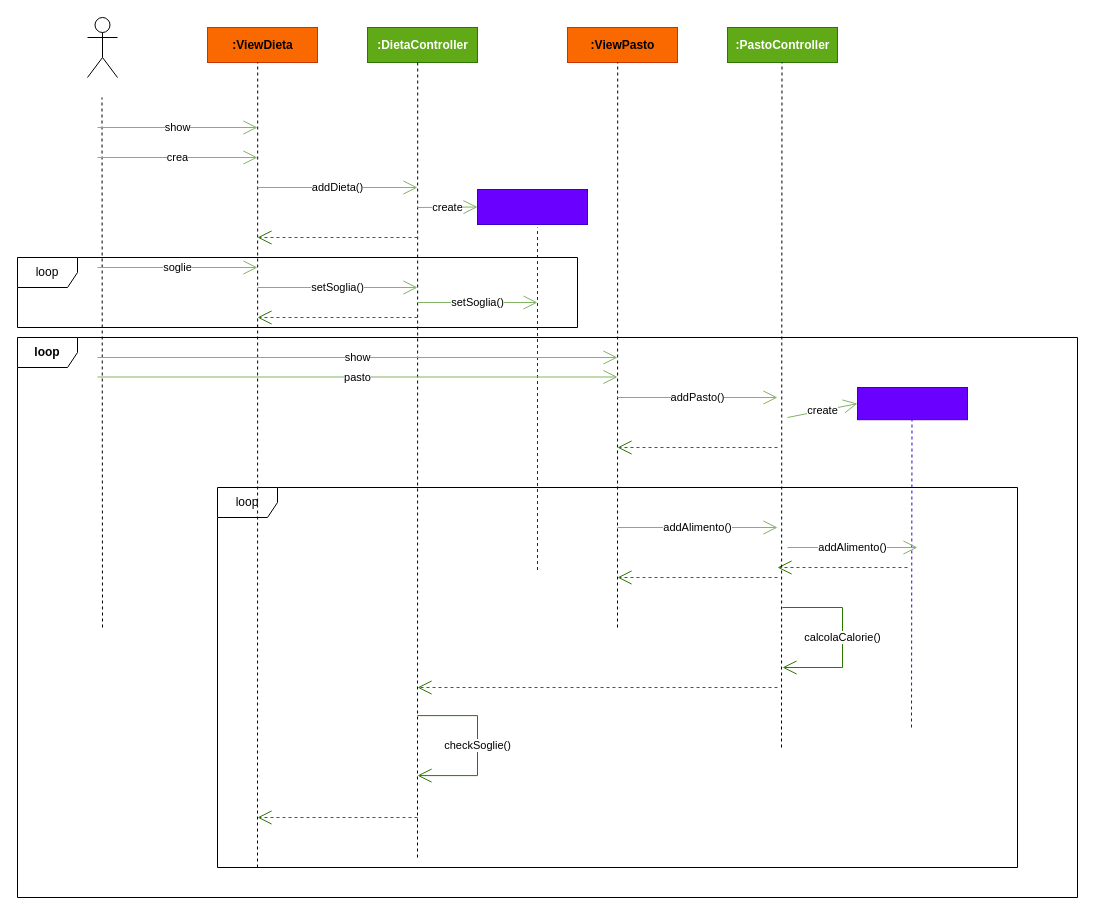
The diagram is 1095 pixels wide and 915 high, and some of its shapes have lost their labels. The box of each missing label's shape, as (x1, y1, x2, y2) in pixels:
:Dieta: (476, 188, 588, 224)
:Pasto: (856, 386, 968, 420)
Nutrizionista: (86, 16, 118, 78)
